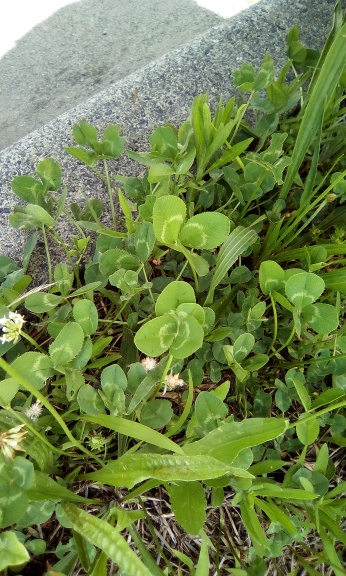4leaf: (133, 279, 206, 362)
